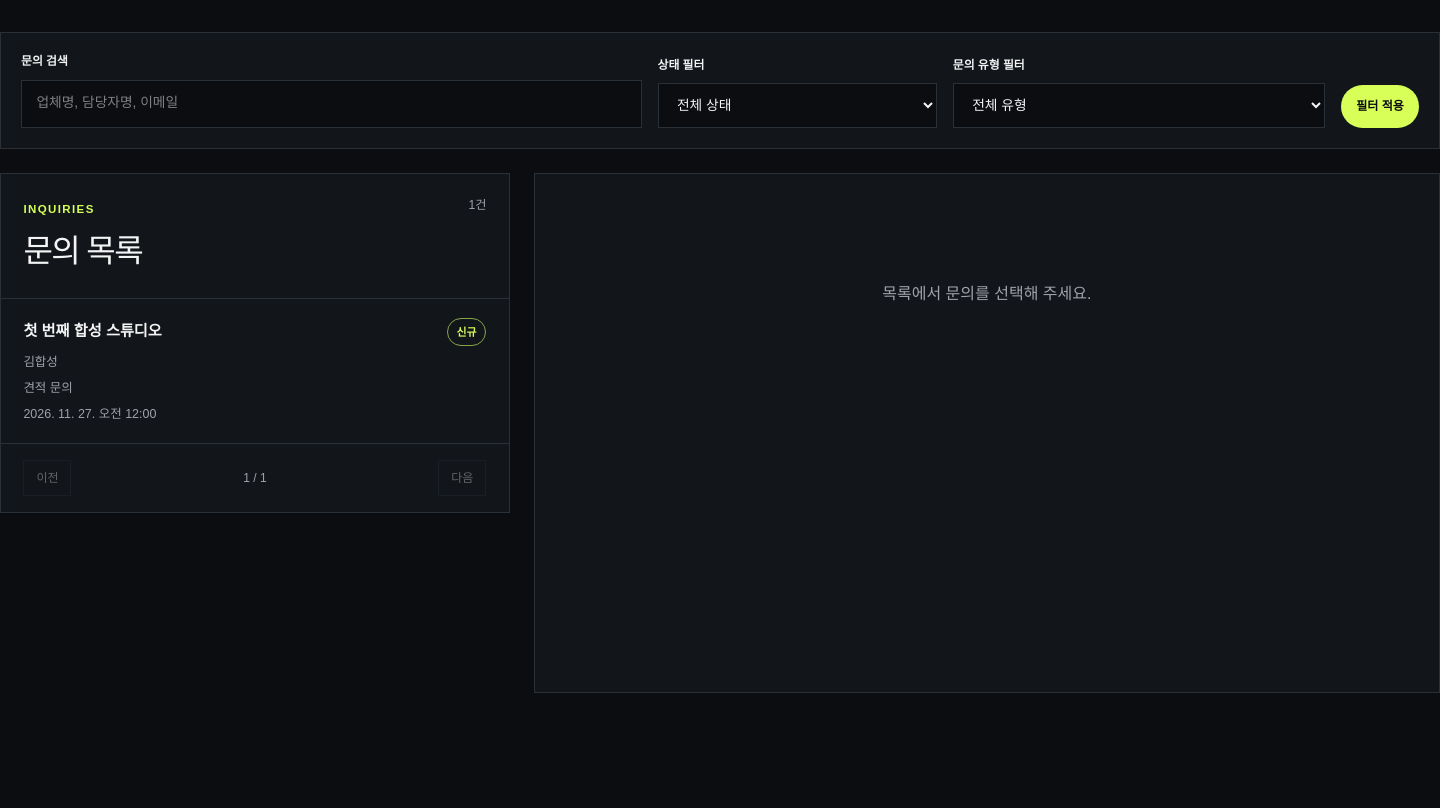
Test case: 관리자 문의 관리 화면 › 저장 실패 시 작성 중인 상태와 메모를 유지한다
Click the button with aria-label "첫 번째 합성 스튜디오 김합성" at (93,331), box [1,299,509,443]
(page scrolled)
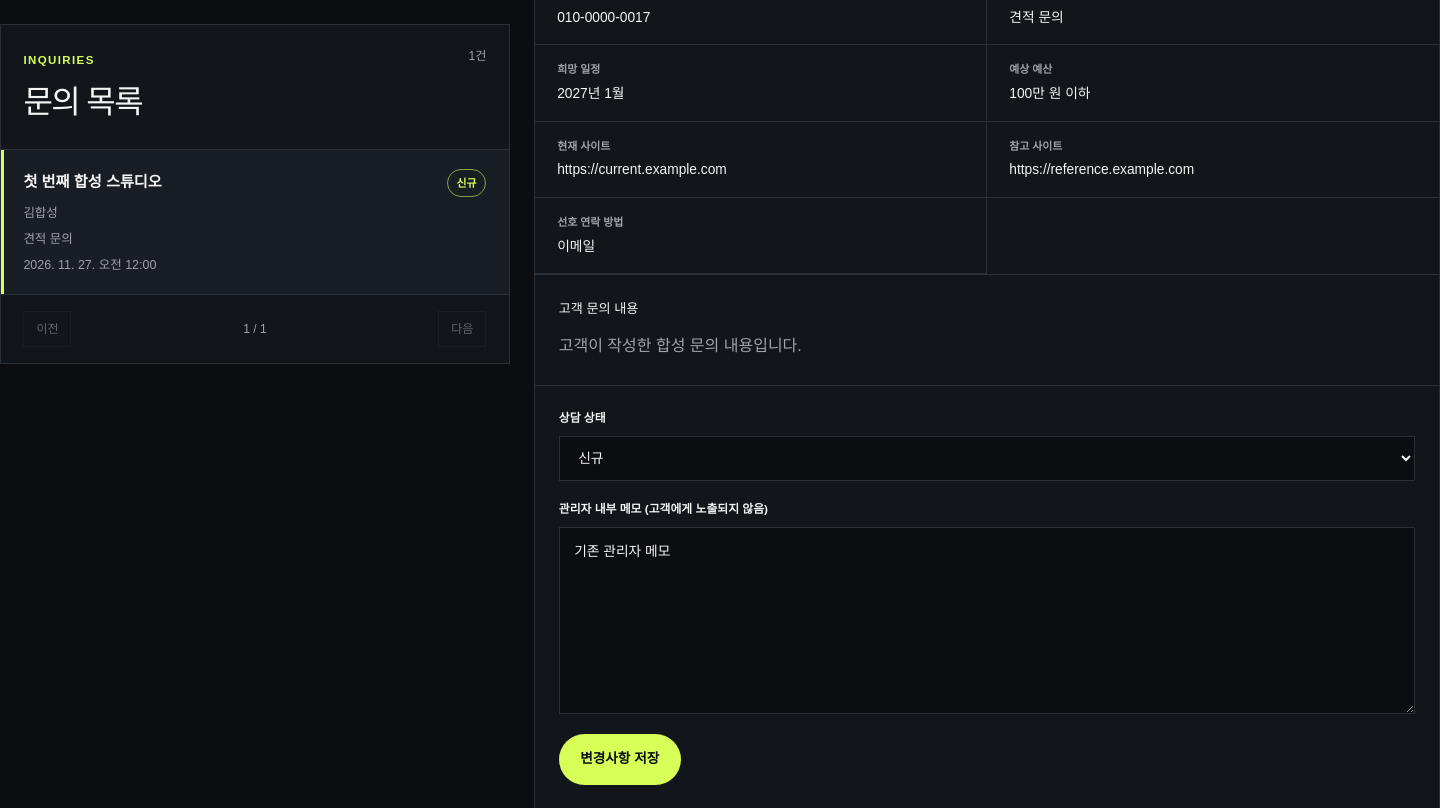
Now the heading "고객 문의 내용" is shown, box [559,302,638,316]
Select "상담 완료" in the dropdown labelled "상담 상태" at (987,459), box [559,436,1415,481]
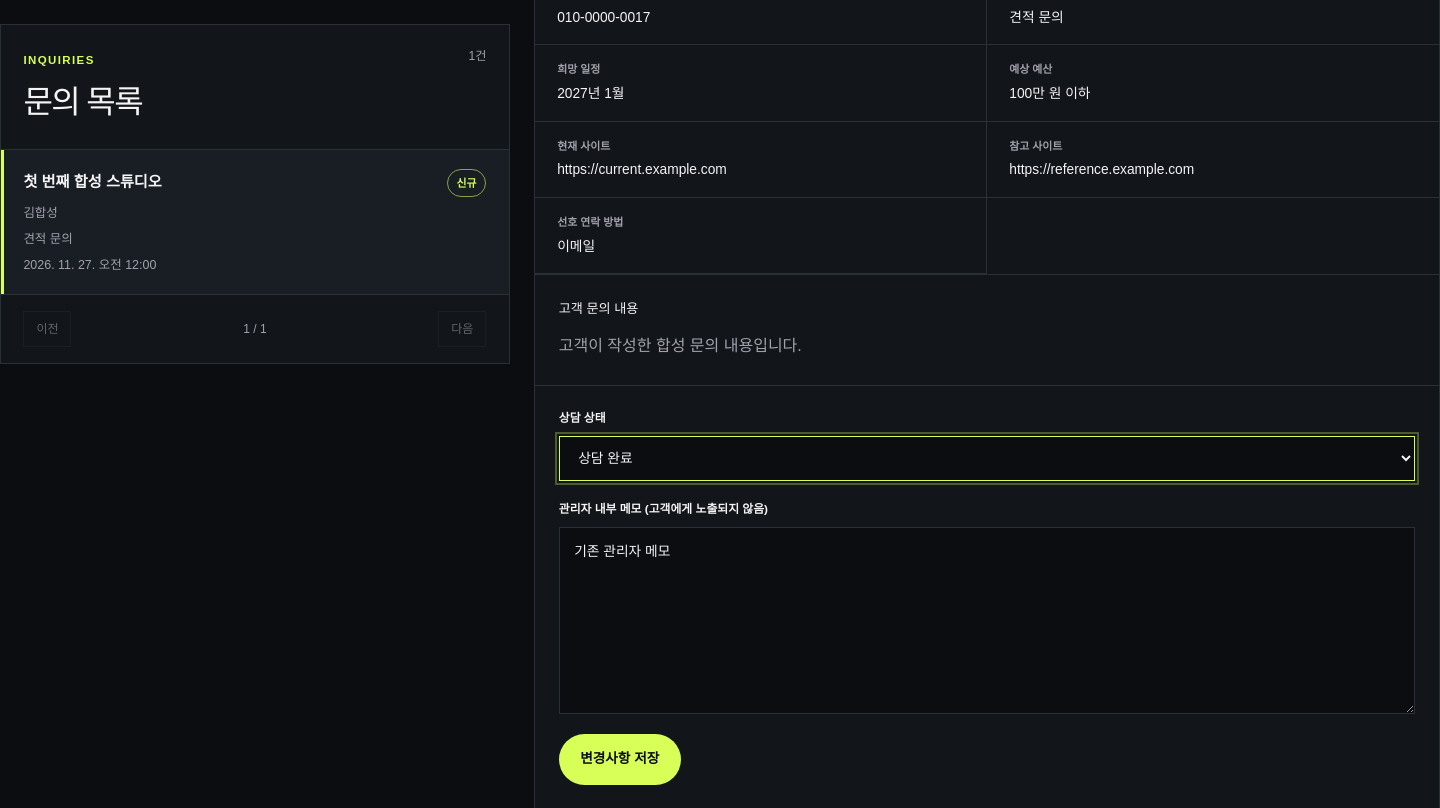
Replace the text in the text box labelled "관리자 내부 메모 (고객에게 노출되지 않음)" with "실패해도 유지할 메모" at (987,621), box [559,528,1415,714]
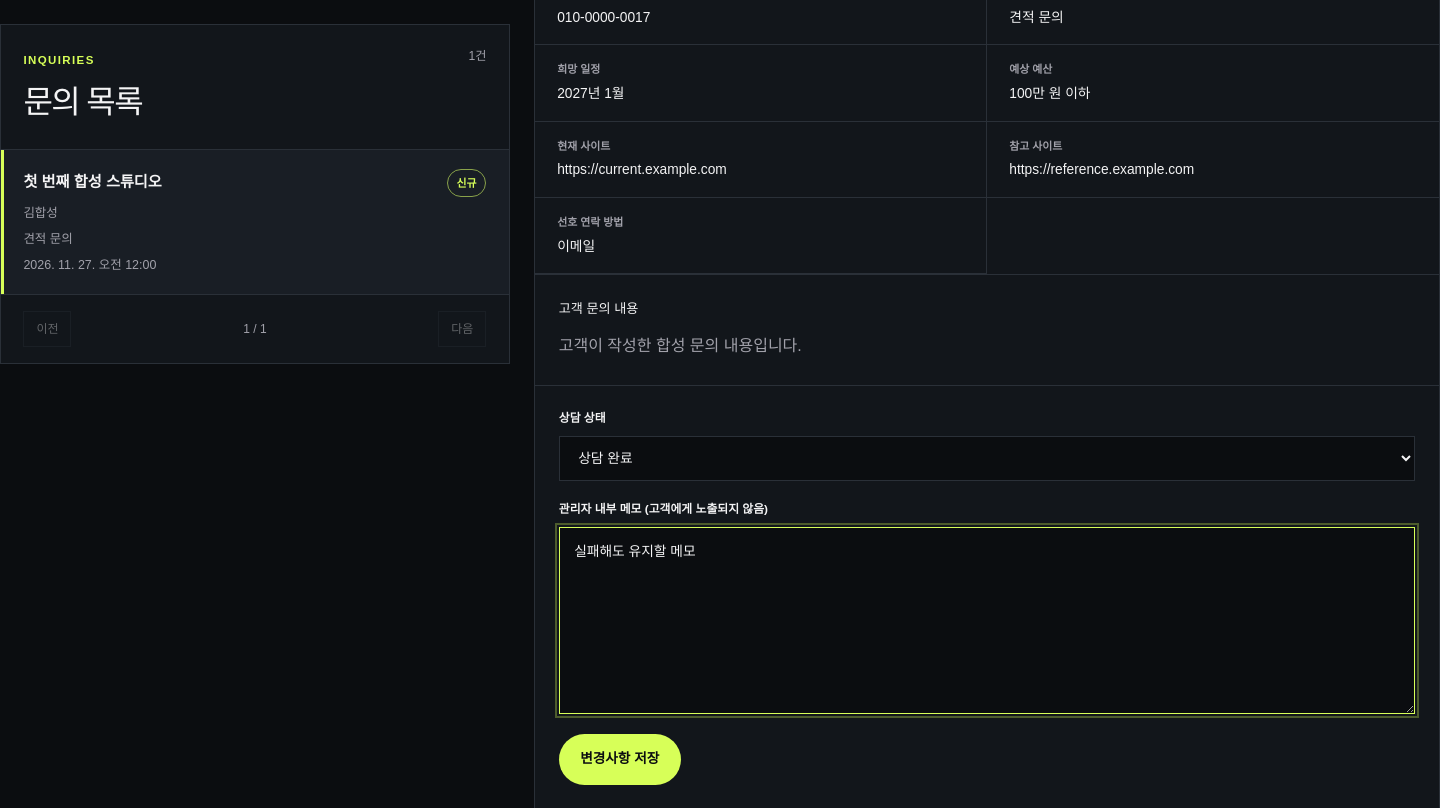
Click the button "변경사항 저장" at (620,759), box [559,734,681,785]
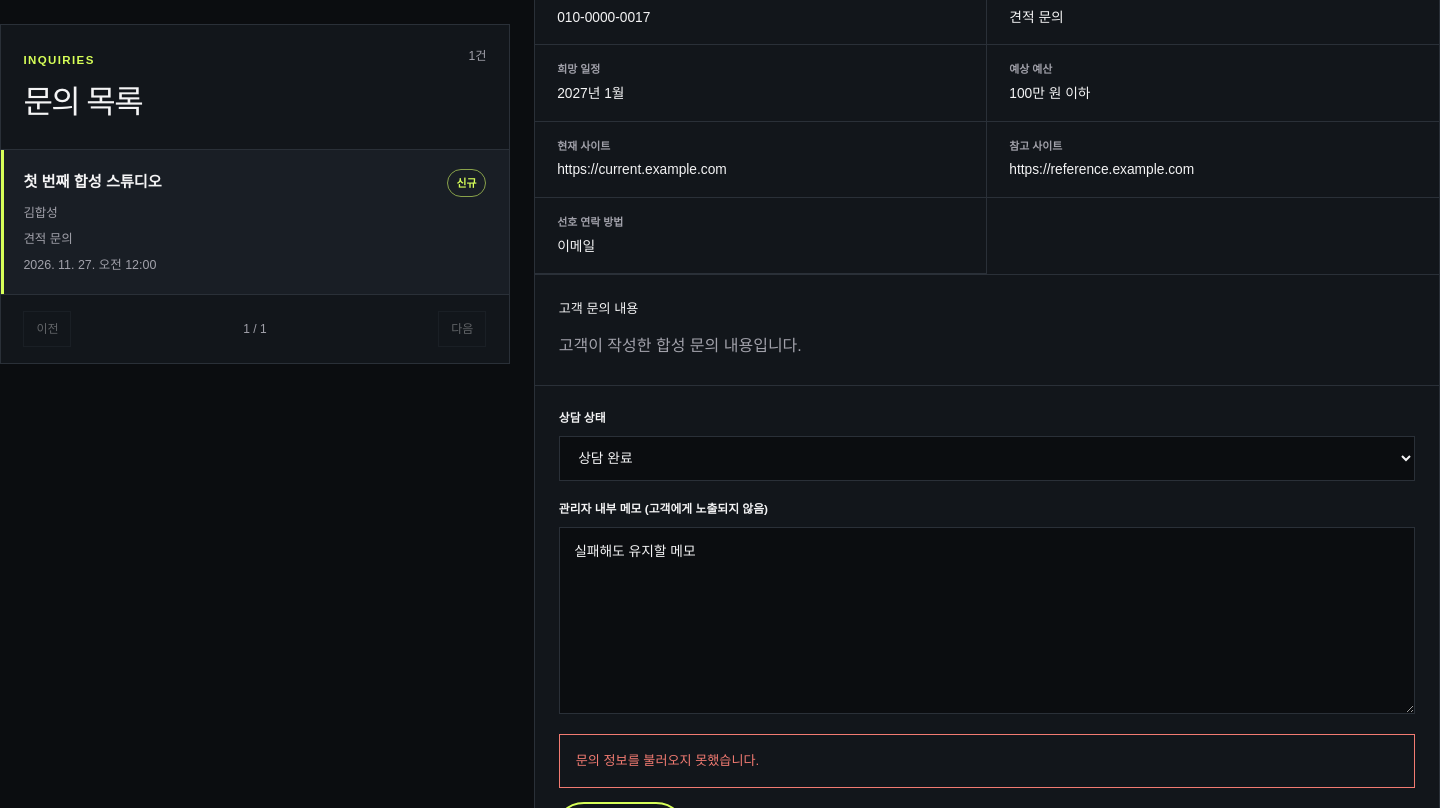
Now the message reads "문의 정보를 불러오지 못했습니다.", box [576,753,759,768]
